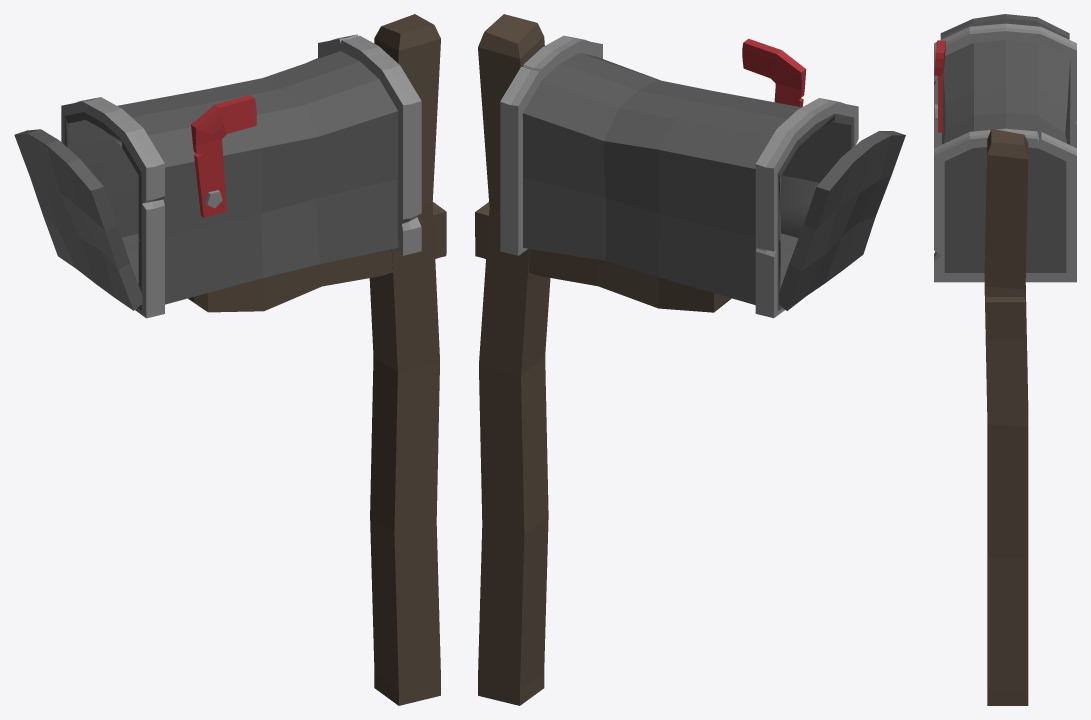
File: mailbox.fbx
3 renders of one model, left to right at view 1: azimuth 30°, elevation 25°; view 2: azimuth 150°, elevation 25°; view 3: azimuth 270°, elevation 25°, orthographic. The views are drawn at different scales.
Parts seen in each view (by area): view 1: mailbox; view 2: mailbox; view 3: mailbox.
Part boxes in pixels (x1,y1,x2,y2): mailbox: (14,14,446,705); mailbox: (475,14,905,705); mailbox: (934,14,1076,705).
Size of the model in its own units: 156 by 258 by 59.08.
